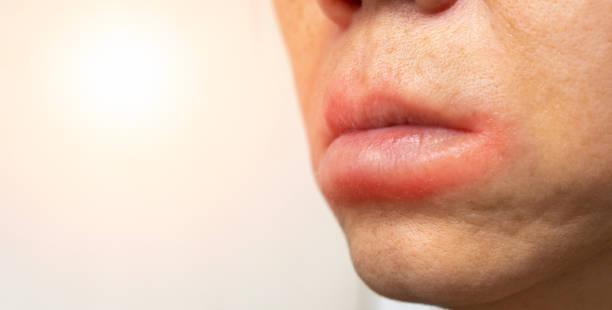Dry-Skin: (315, 25, 408, 137), (428, 14, 516, 83), (348, 222, 435, 278), (560, 33, 612, 118), (425, 204, 502, 259), (515, 148, 582, 203), (534, 33, 553, 128), (551, 0, 552, 114)
